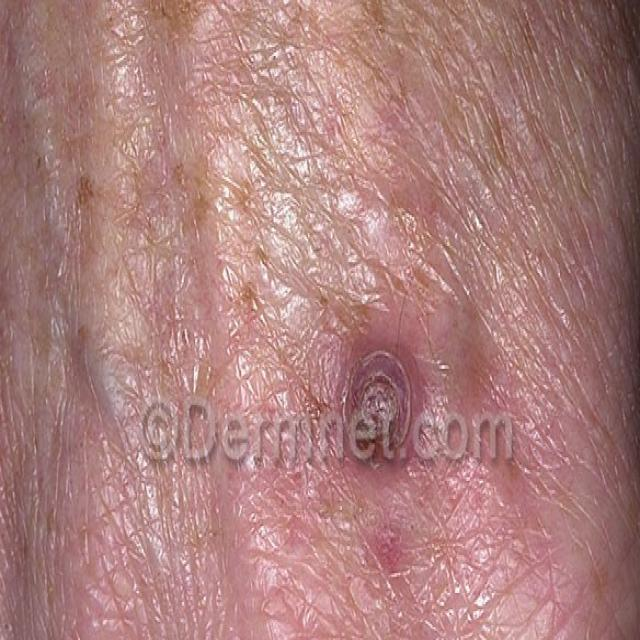Vascular Tumors: (313, 303, 450, 500)
